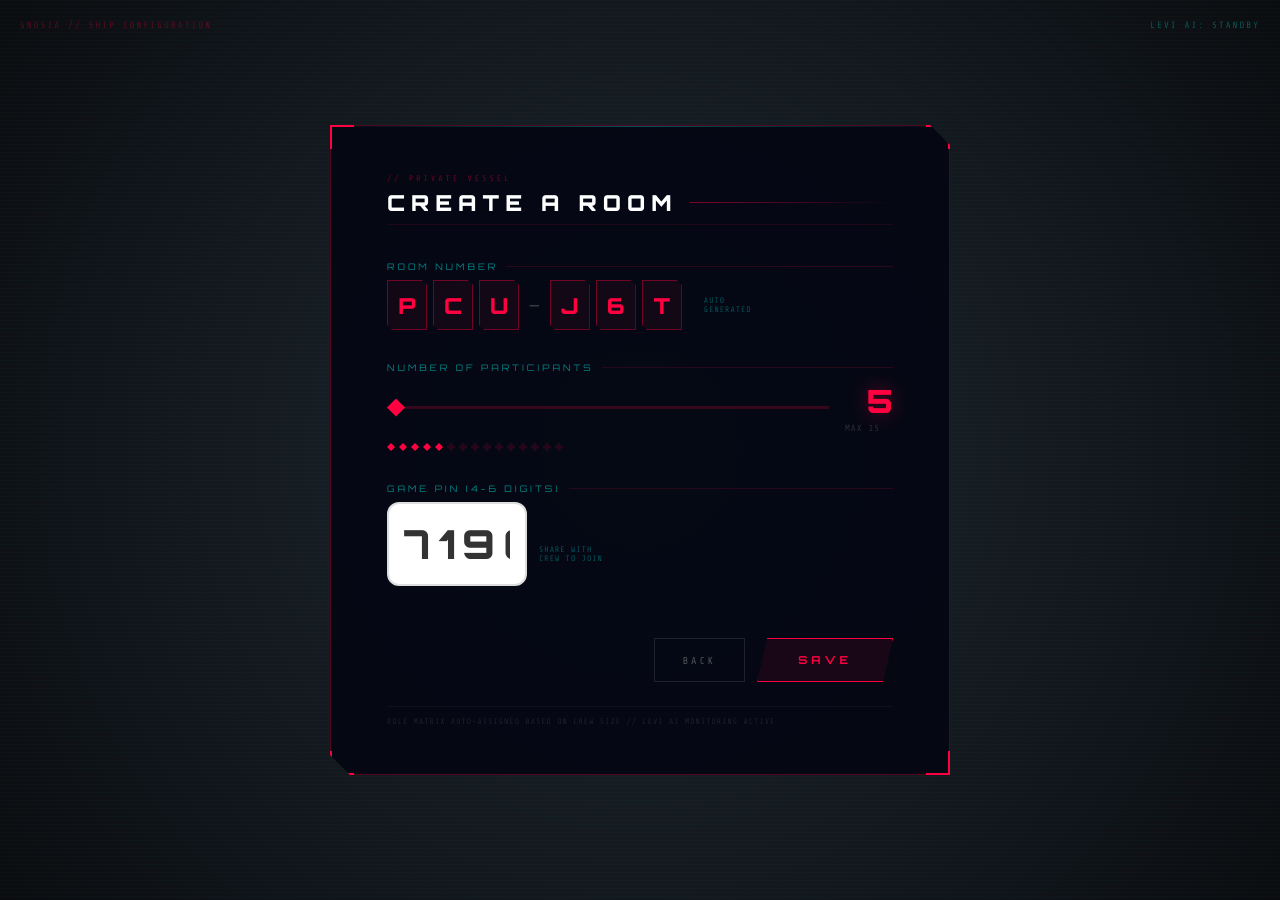
Test: CreateRoom — PIN input › strips non-numeric characters and caps at 6 digits
Replace the text in the field with "12abc3456789": (457, 544) 387,502 -> 527,586
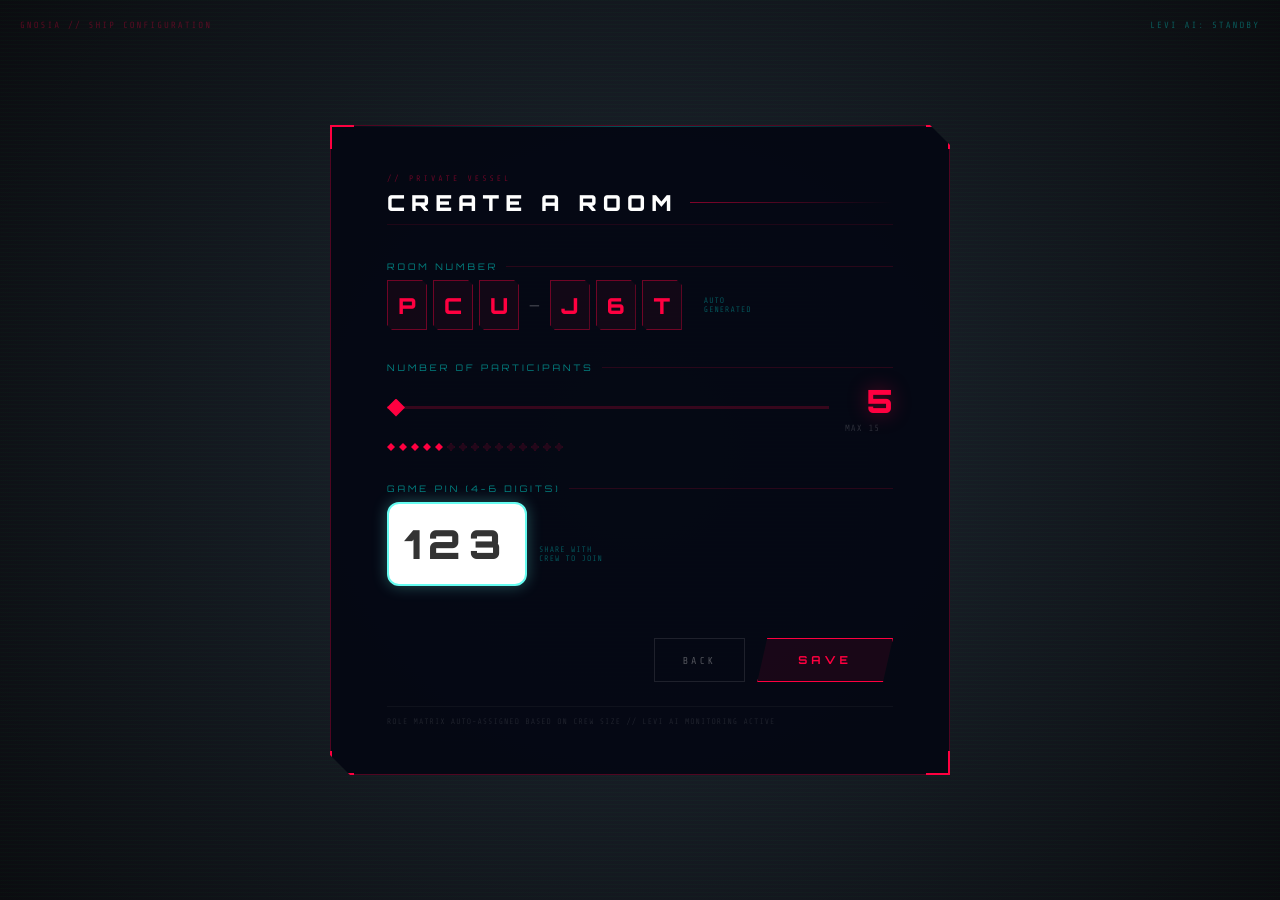
Expected: the field holds "123456", 387,502 -> 527,586
